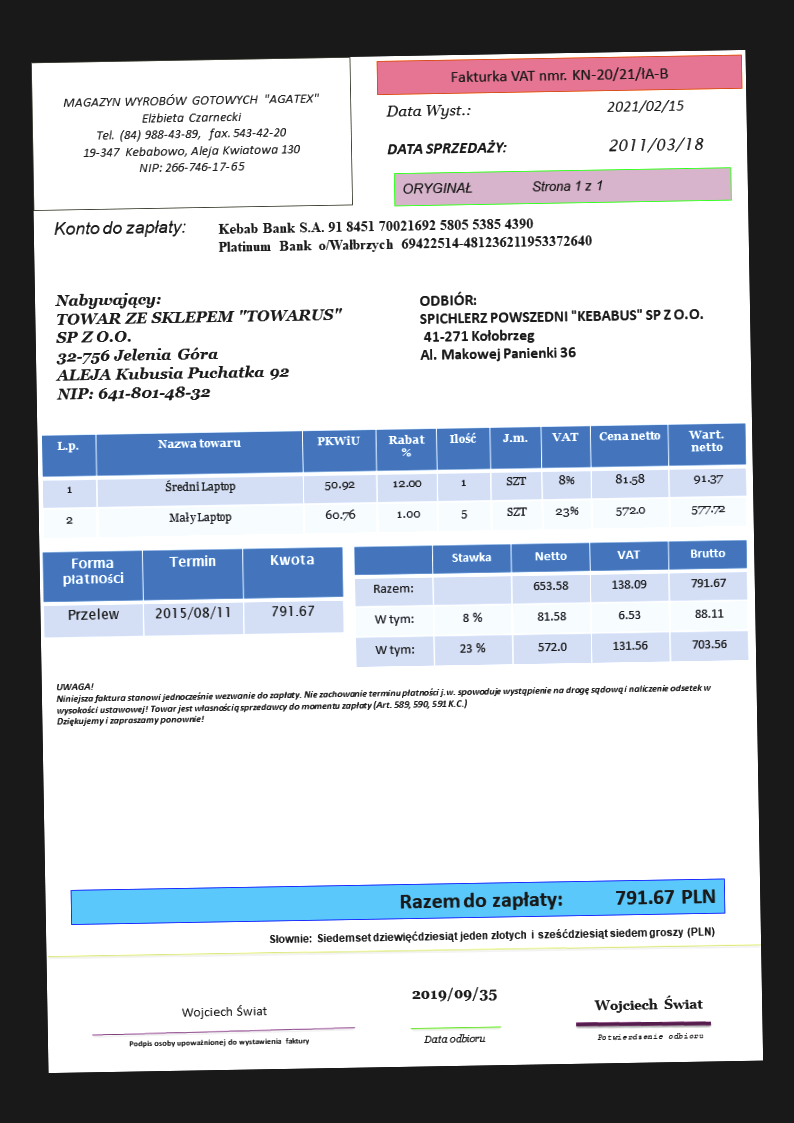Table: (39, 419, 748, 540), (351, 540, 751, 670), (41, 545, 345, 641)
TextBox: (53, 668, 714, 728), (52, 287, 345, 407), (416, 286, 710, 364), (59, 91, 325, 177), (214, 211, 594, 258), (264, 921, 718, 948), (394, 882, 718, 914), (445, 63, 672, 86), (400, 175, 609, 198), (48, 215, 189, 239), (383, 136, 507, 161), (125, 1034, 314, 1050), (587, 992, 707, 1016), (606, 132, 707, 155), (407, 983, 501, 1005), (606, 92, 685, 118), (383, 100, 476, 121), (176, 1000, 269, 1021), (593, 1028, 706, 1044), (421, 1028, 487, 1047)
